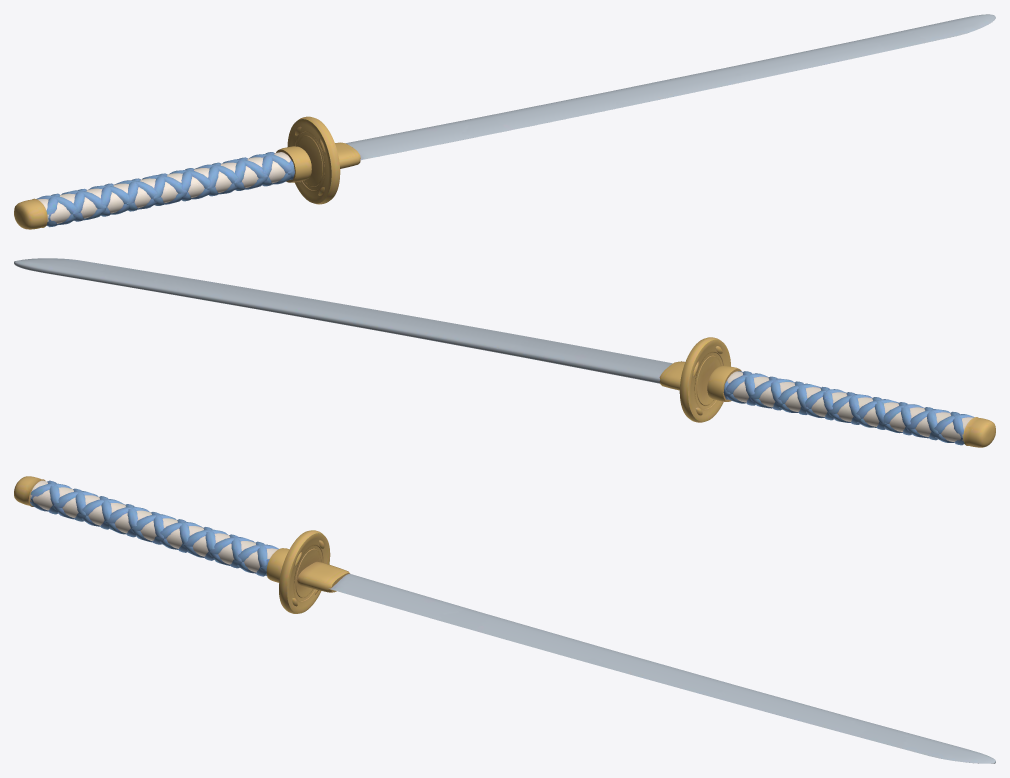
Rendered from levi.glb.
3 views of the same model, one above another, from view 1: azimuth 30°, elevation 25°; view 2: azimuth 150°, elevation 25°; view 3: azimuth 330°, elevation 25° (orthographic). The views are drawn at different scales.
Visible parts, largest first — view 1: katana_body; view 2: katana_body; view 3: katana_body.
Boxes of the visible parts, box(x1,y1,x2,y2) form: katana_body: box(14, 14, 995, 229); katana_body: box(14, 258, 995, 447); katana_body: box(14, 476, 995, 763).
Bounding box in the file's own units: 0.9674 × 0.0746 × 0.0769.
Materials: 1 (1 with a texture image).
